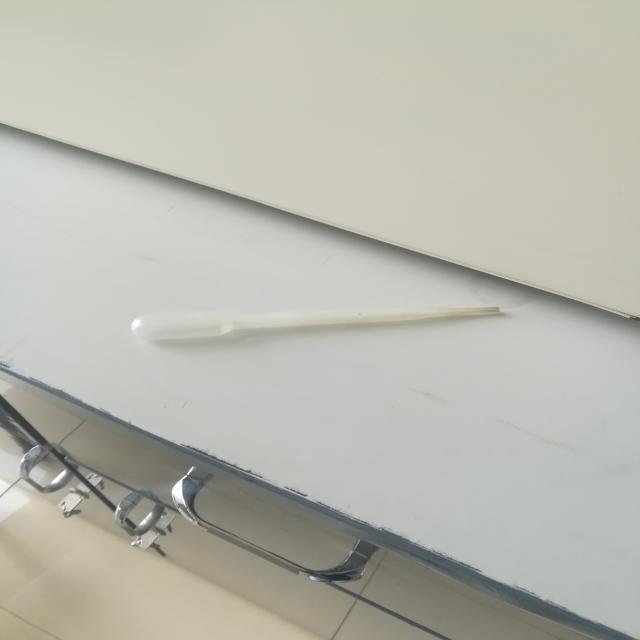Pipette: (108, 273, 573, 398)
